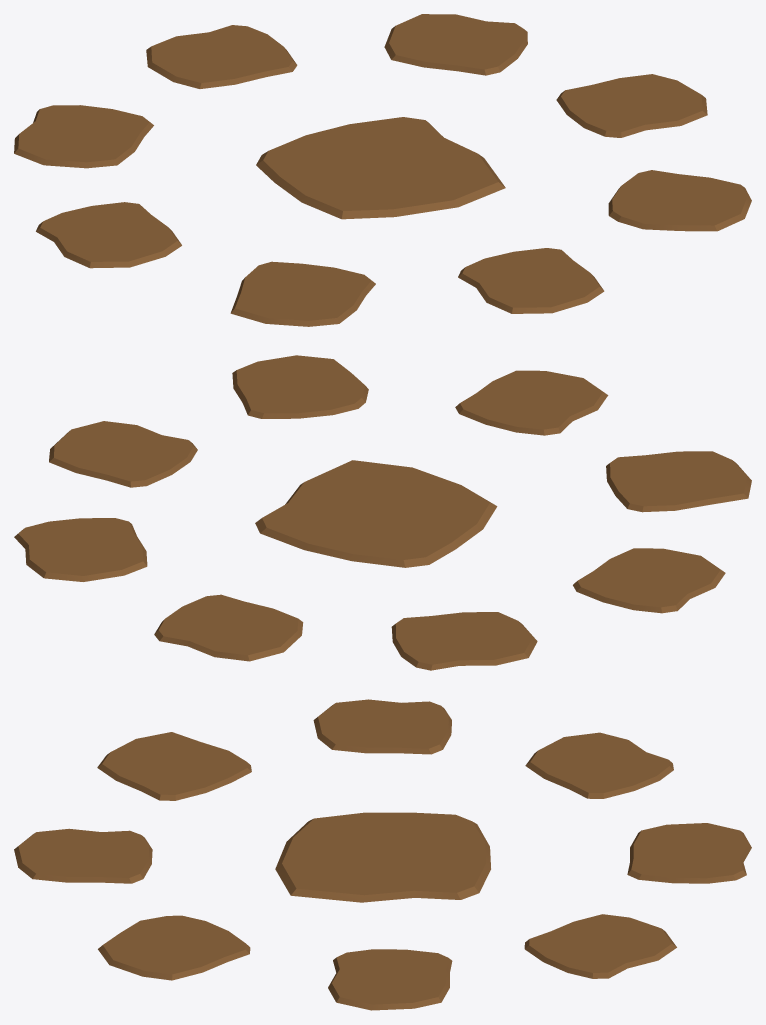
File: ObelisksDirt.fbx
3 views of the same model, one above another, from view 1: azimuth 30°, elevation 25°; view 2: azimuth 150°, elevation 25°; view 3: azimuth 270°, elevation 25° (orthographic).
Visible parts, largest first — view 1: Obelisk_Dirt01, Obelisk_Dirt07, Obelisk_Dirt05, Obelisk_Dirt04, Obelisk_Dirt02, Obelisk_Dirt03, Obelisk_Dirt09, Obelisk_Dirt06, Obelisk_Dirt08; view 2: Obelisk_Dirt01, Obelisk_Dirt07, Obelisk_Dirt05, Obelisk_Dirt02, Obelisk_Dirt09, Obelisk_Dirt04, Obelisk_Dirt03, Obelisk_Dirt06, Obelisk_Dirt08; view 3: Obelisk_Dirt01, Obelisk_Dirt07, Obelisk_Dirt05, Obelisk_Dirt08, Obelisk_Dirt04, Obelisk_Dirt03, Obelisk_Dirt06, Obelisk_Dirt09, Obelisk_Dirt02.
Part boxes in pixels (x1=…): Obelisk_Dirt01: x1=256, y1=117, x2=505, y2=219; Obelisk_Dirt07: x1=230, y1=261, x2=375, y2=326; Obelisk_Dirt05: x1=608, y1=170, x2=751, y2=231; Obelisk_Dirt04: x1=556, y1=74, x2=707, y2=137; Obelisk_Dirt02: x1=146, y1=25, x2=297, y2=88; Obelisk_Dirt03: x1=384, y1=14, x2=527, y2=75; Obelisk_Dirt09: x1=14, y1=105, x2=153, y2=168; Obelisk_Dirt06: x1=458, y1=248, x2=604, y2=313; Obelisk_Dirt08: x1=36, y1=202, x2=181, y2=268; Obelisk_Dirt01: x1=255, y1=460, x2=497, y2=567; Obelisk_Dirt07: x1=606, y1=451, x2=751, y2=512; Obelisk_Dirt05: x1=232, y1=355, x2=368, y2=418; Obelisk_Dirt02: x1=154, y1=594, x2=303, y2=661; Obelisk_Dirt09: x1=391, y1=612, x2=537, y2=670; Obelisk_Dirt04: x1=49, y1=421, x2=197, y2=487; Obelisk_Dirt03: x1=14, y1=518, x2=147, y2=581; Obelisk_Dirt06: x1=455, y1=370, x2=608, y2=435; Obelisk_Dirt08: x1=573, y1=548, x2=725, y2=613; Obelisk_Dirt01: x1=275, y1=812, x2=490, y2=902; Obelisk_Dirt07: x1=97, y1=732, x2=251, y2=800; Obelisk_Dirt05: x1=98, y1=915, x2=250, y2=980; Obelisk_Dirt08: x1=313, y1=699, x2=451, y2=754; Obelisk_Dirt04: x1=328, y1=949, x2=452, y2=1010; Obelisk_Dirt03: x1=524, y1=914, x2=676, y2=978; Obelisk_Dirt06: x1=14, y1=828, x2=152, y2=883; Obelisk_Dirt09: x1=525, y1=732, x2=673, y2=798; Obelisk_Dirt02: x1=627, y1=823, x2=751, y2=883.
Size of the model in its own units: 481 by 3.56 by 486.
